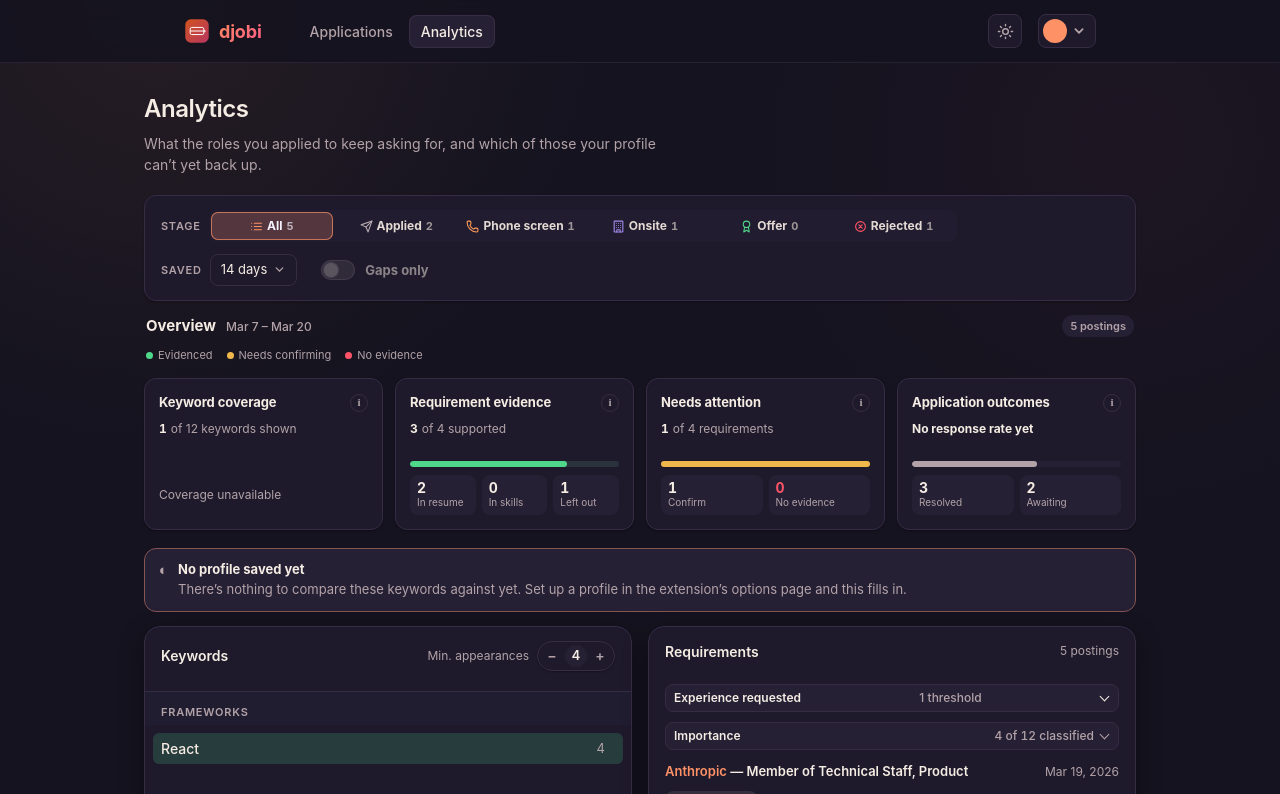
Scenario: analytics › explains an empty keyword table caused by the appearance filter
The width and height of the screenshot is (1280, 794).
Expected: the button "React 4" is shown, [145,730,631,767]
Click the button named "Increase minimum appearances": {"x": 600, "y": 656} [589,645,611,667]
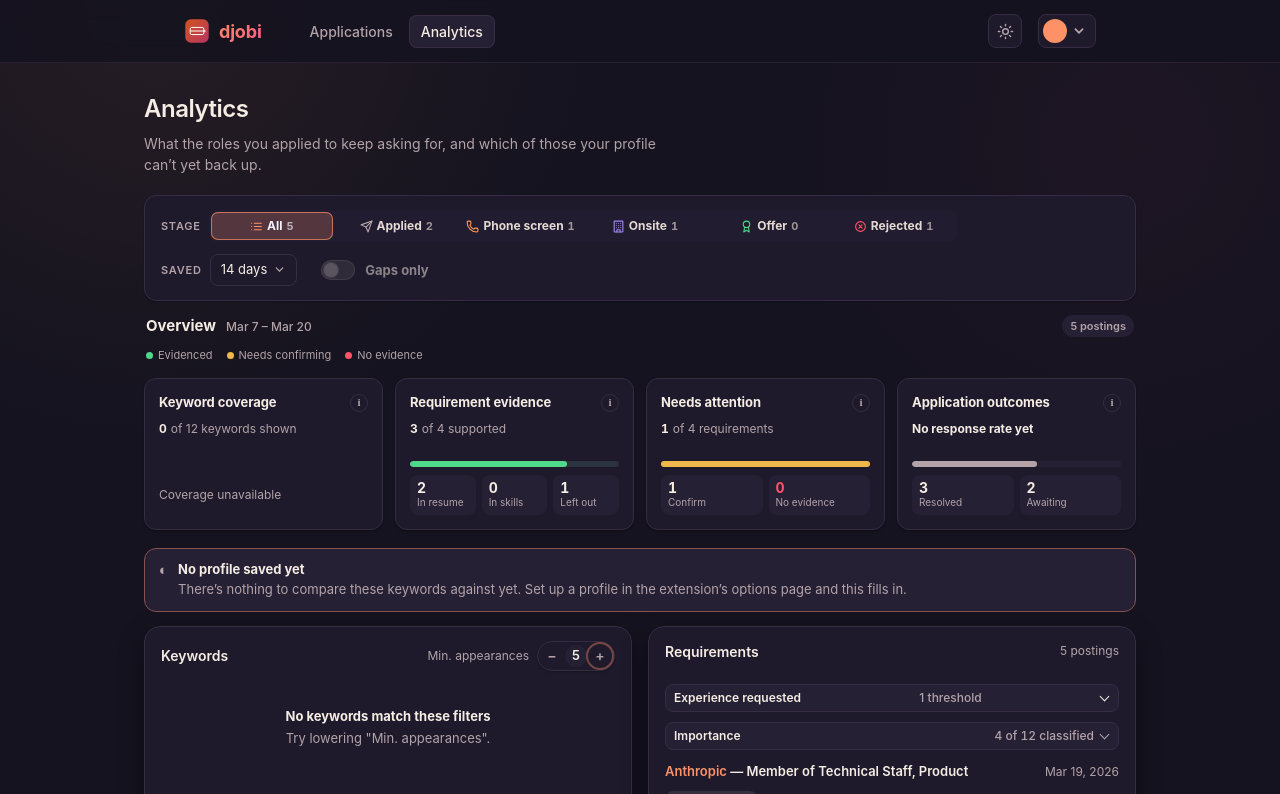
Expected: the text "No keywords match these filters" is shown, [286,708,490,724]
